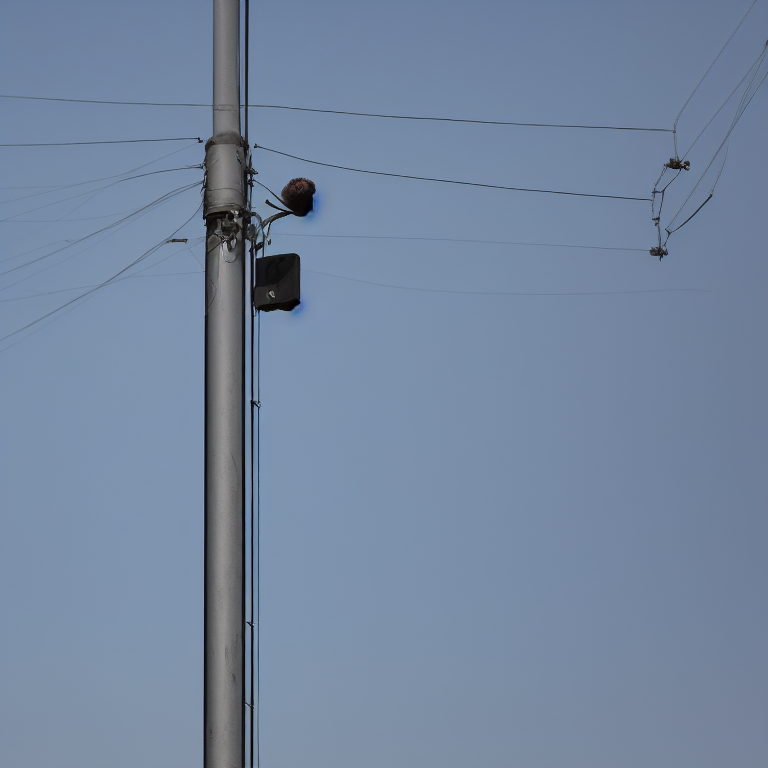nest: (281, 179, 316, 216)
